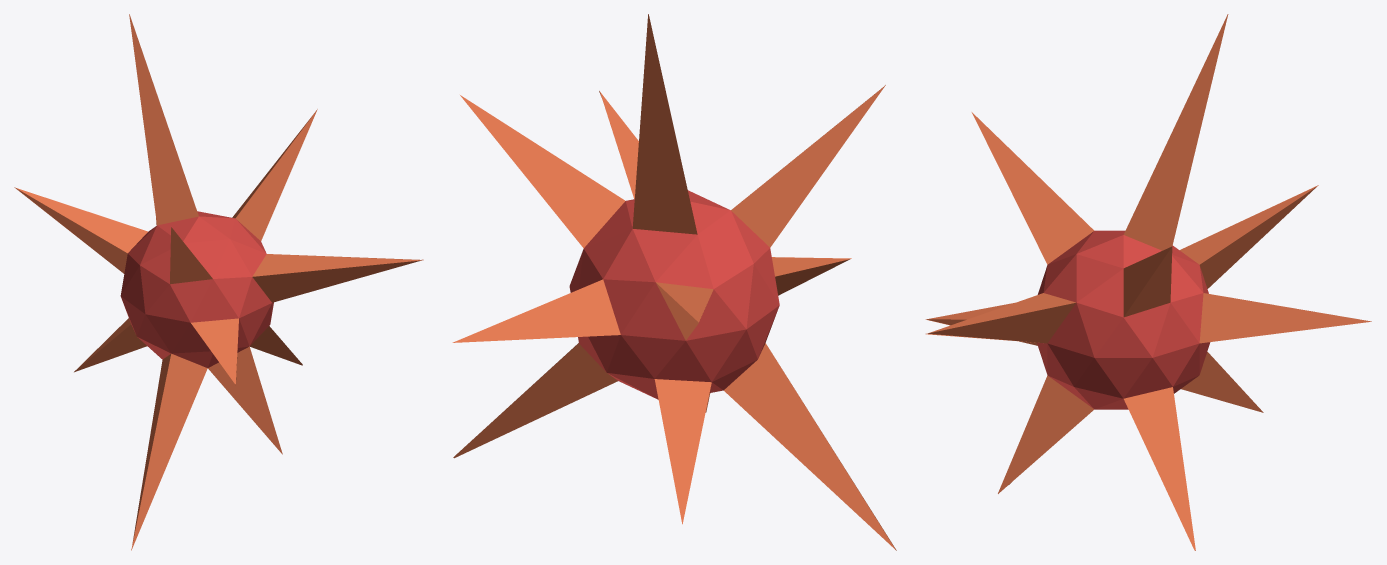
File: virus.fbx
The picture shows the model from 3 angles, left to right: view 1: azimuth 30°, elevation 25°; view 2: azimuth 150°, elevation 25°; view 3: azimuth 270°, elevation 25°; orthographic projection. The views are drawn at different scales.
Visible parts, largest first — view 1: Icosphere; view 2: Icosphere; view 3: Icosphere.
Part boxes in pixels (bbox=[...]): Icosphere: bbox=[14, 14, 423, 550]; Icosphere: bbox=[452, 14, 896, 550]; Icosphere: bbox=[925, 14, 1371, 550].
Bounding box in the file's own units: 249 × 413 × 320.
